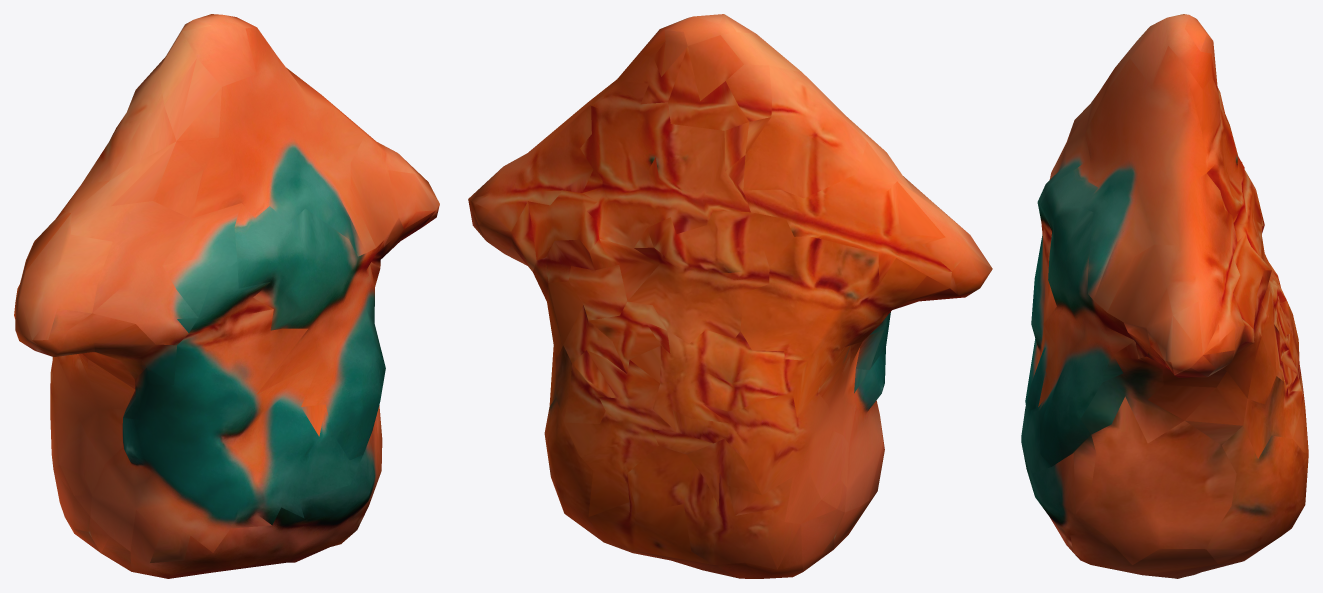
Rendered from sydney-house.glb.
3 renders of one model, left to right at view 1: azimuth 30°, elevation 25°; view 2: azimuth 150°, elevation 25°; view 3: azimuth 270°, elevation 25°, orthographic. The views are drawn at different scales.
Visible parts, largest first — view 1: Mesh_0; view 2: Mesh_0; view 3: Mesh_0.
Part boxes in pixels (x1,y1,x2,y2): Mesh_0: (14, 14, 439, 578); Mesh_0: (468, 14, 992, 578); Mesh_0: (1021, 14, 1308, 578).
Bounding box in the file's own units: 0.6457 × 0.7083 × 0.3518.
Materials: 1 (1 with a texture image).
